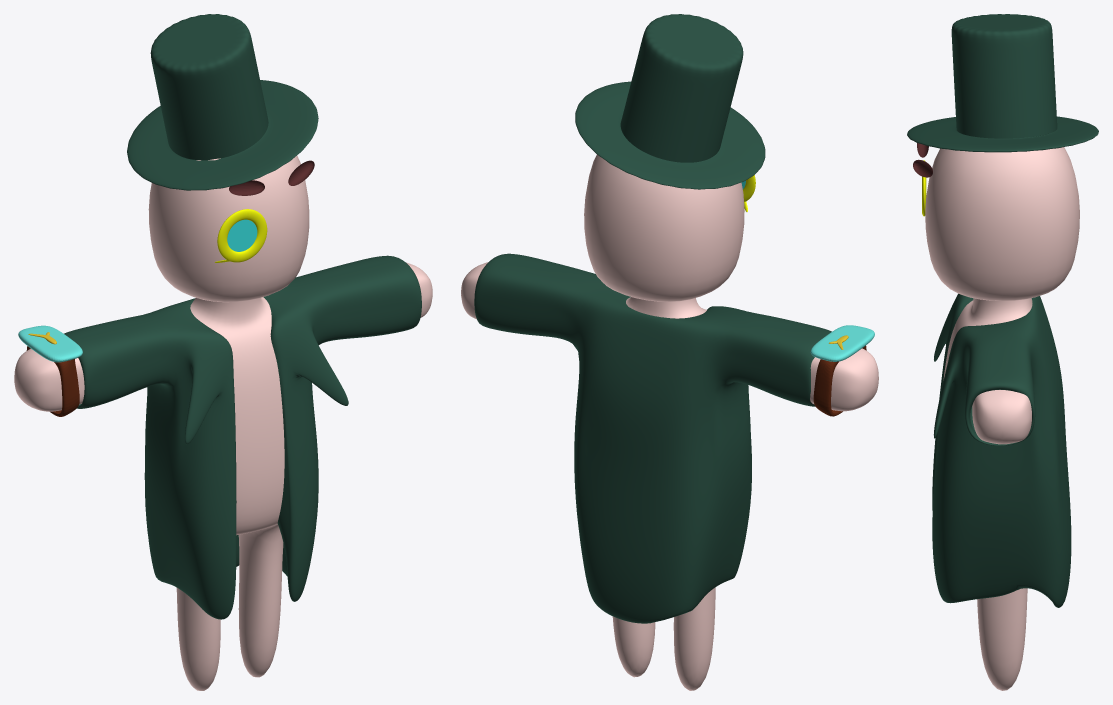
Rendered from Personajes.fbx.
3 views of the same model, side by side, from view 1: azimuth 30°, elevation 25°; view 2: azimuth 150°, elevation 25°; view 3: azimuth 270°, elevation 25° (orthographic).
Visible parts, largest first — view 1: Cubo.003; view 2: Cubo.003; view 3: Cubo.003.
Part boxes in pixels (left/top/right/bottom): Cubo.003: left=14, top=14, right=432, bottom=690; Cubo.003: left=461, top=14, right=878, bottom=690; Cubo.003: left=907, top=14, right=1098, bottom=690.
Bounding box in the file's own units: 475 × 734 × 197.
